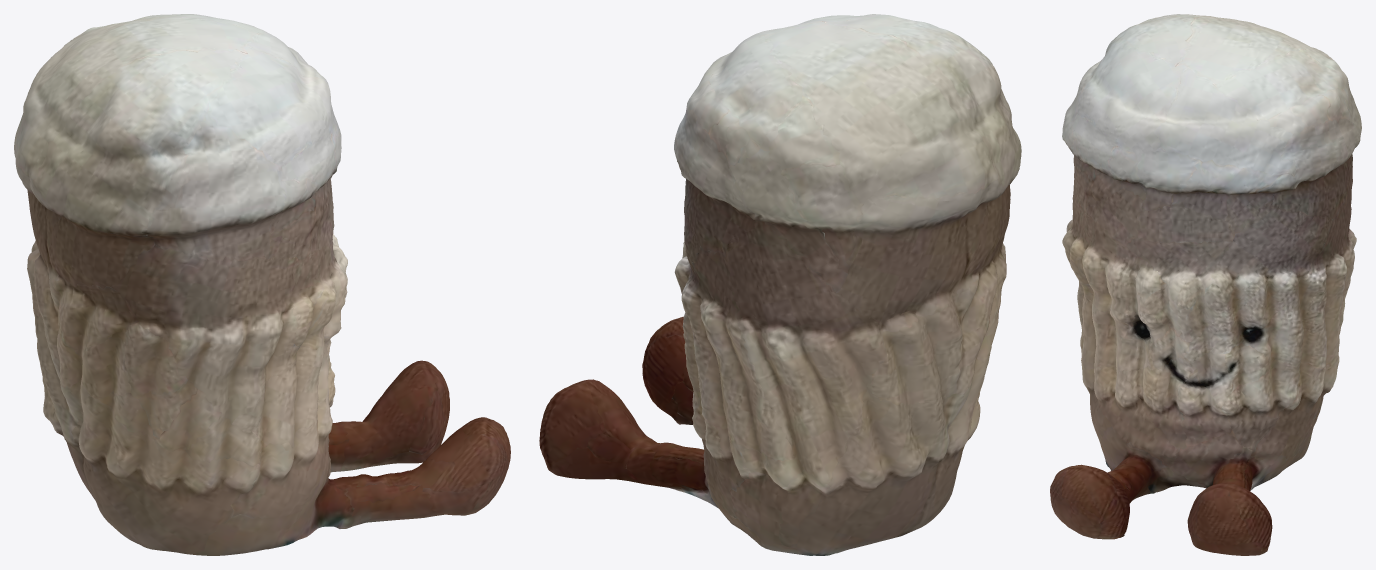
File: plushie.glb
3 views of the same model, side by side, from view 1: azimuth 30°, elevation 25°; view 2: azimuth 150°, elevation 25°; view 3: azimuth 270°, elevation 25° (orthographic). The views are drawn at different scales.
Parts seen in each view (by area): view 1: Object_4; view 2: Object_4; view 3: Object_4.
Part boxes in pixels (x1=…): Object_4: x1=14, y1=14, x2=510, y2=555; Object_4: x1=539, y1=14, x2=1021, y2=555; Object_4: x1=1050, y1=14, x2=1361, y2=555.
Bounding box in the file's own units: 0.1329 × 0.1404 × 0.0974.
Materials: 1 (1 with a texture image).
